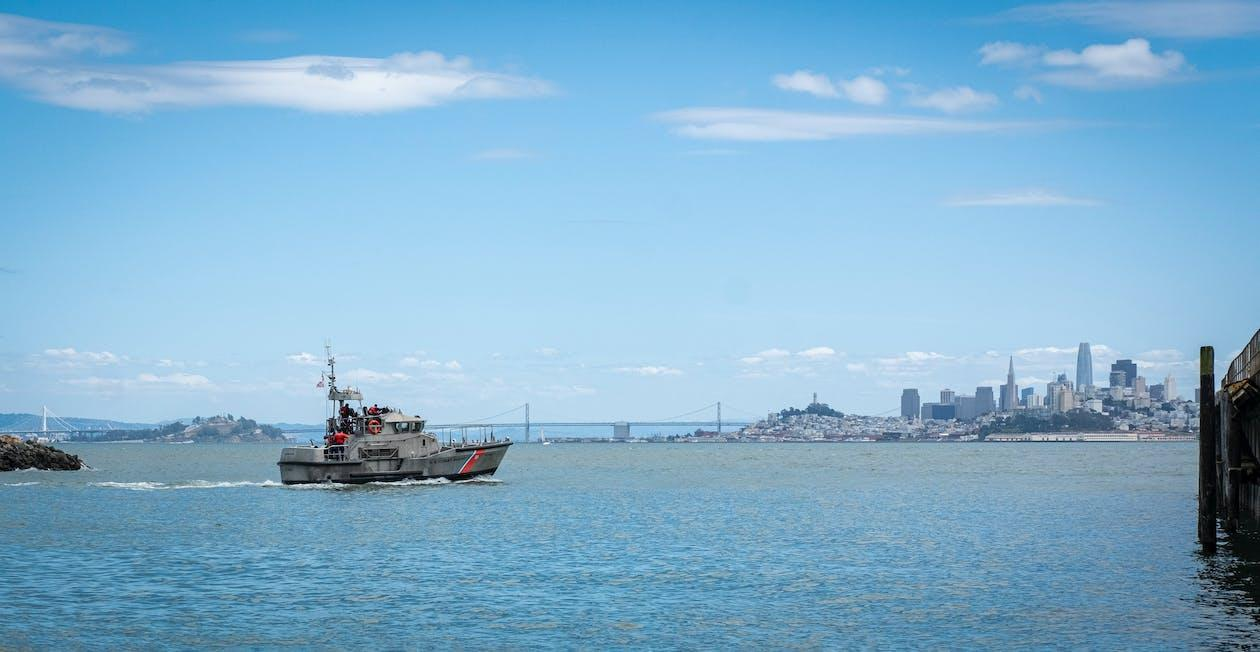MIL_Ship: (278, 337, 515, 485)
